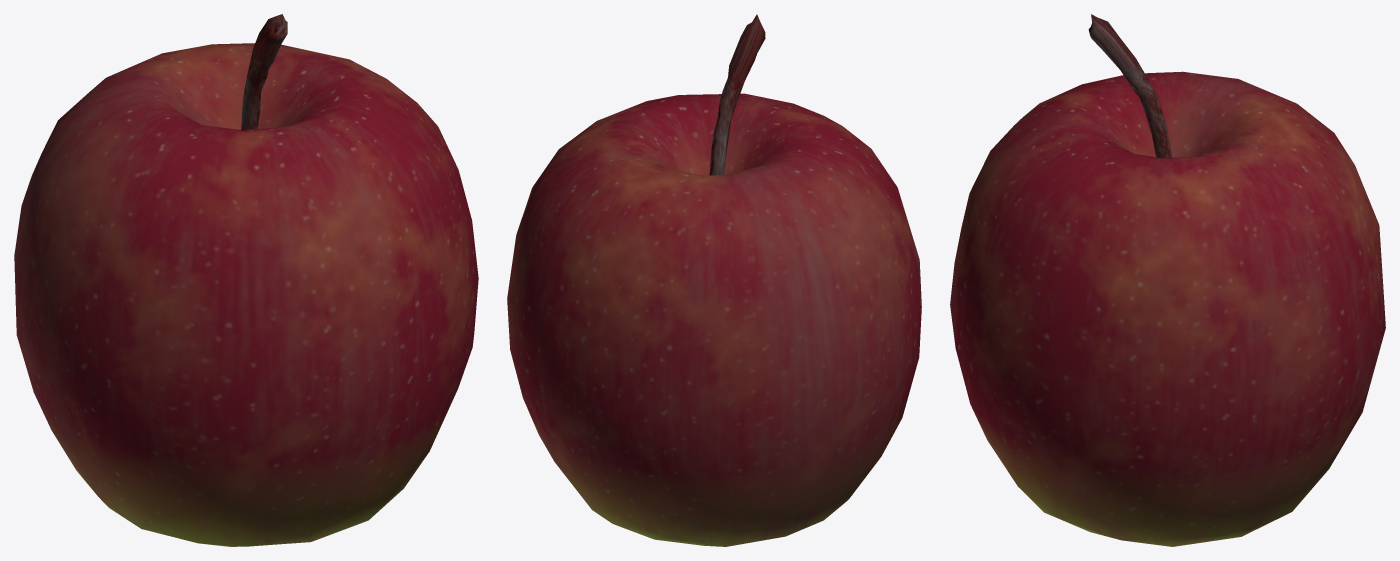
File: 08_apple_red.glb
3 views of the same model, side by side, from view 1: azimuth 30°, elevation 25°; view 2: azimuth 150°, elevation 25°; view 3: azimuth 270°, elevation 25° (orthographic). The views are drawn at different scales.
Parts seen in each view (by area): view 1: apple08_lr; view 2: apple08_lr; view 3: apple08_lr.
Part boxes in pixels (x1,y1,x2,y2): apple08_lr: (14, 14, 478, 546); apple08_lr: (507, 14, 921, 546); apple08_lr: (950, 14, 1385, 546).
Size of the model in its own units: 0.805 by 0.9901 by 0.8087.
Materials: 1 (1 with a texture image).
